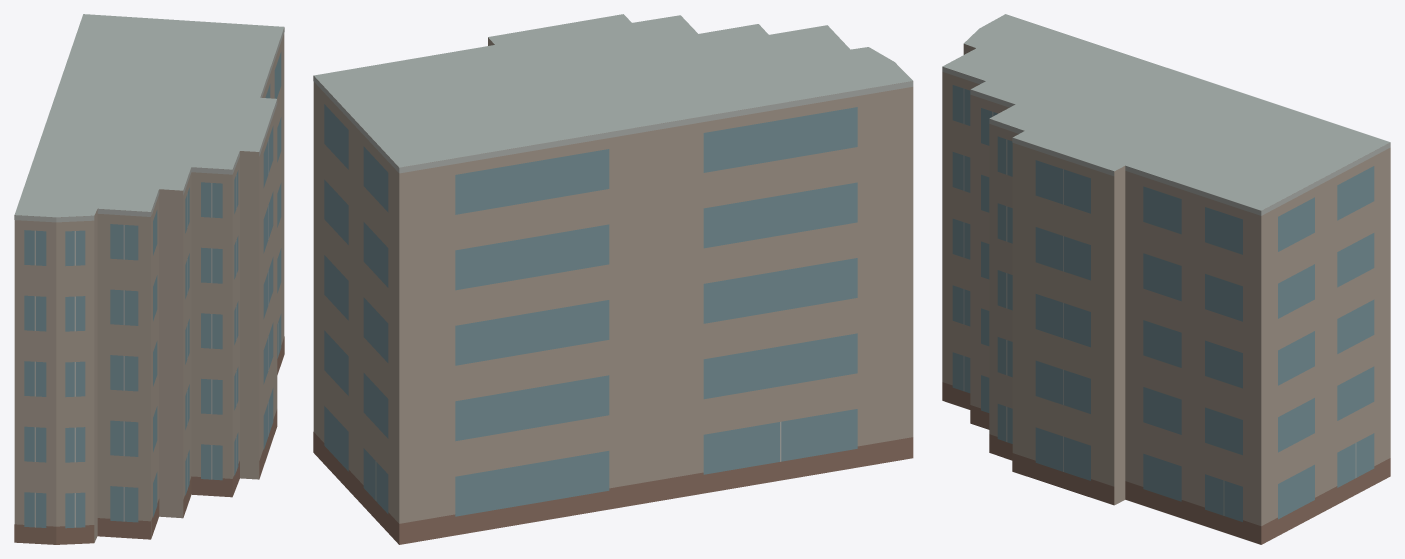
Rendered from survey-upis-32702569.glb.
The picture shows the model from 3 angles, left to right: view 1: azimuth 30°, elevation 25°; view 2: azimuth 150°, elevation 25°; view 3: azimuth 270°, elevation 25°; orthographic projection. The views are drawn at different scales.
Visible parts, largest first — view 1: survey-upis-32702569.tmp; view 2: survey-upis-32702569.tmp; view 3: survey-upis-32702569.tmp.
Boxes of the visible parts, x1,y1,x2,y2 form: survey-upis-32702569.tmp: (14,14,284,544); survey-upis-32702569.tmp: (313,14,913,544); survey-upis-32702569.tmp: (942,14,1390,544).
Bounding box in the file's own units: 19.97 × 15.8 × 19.23.
